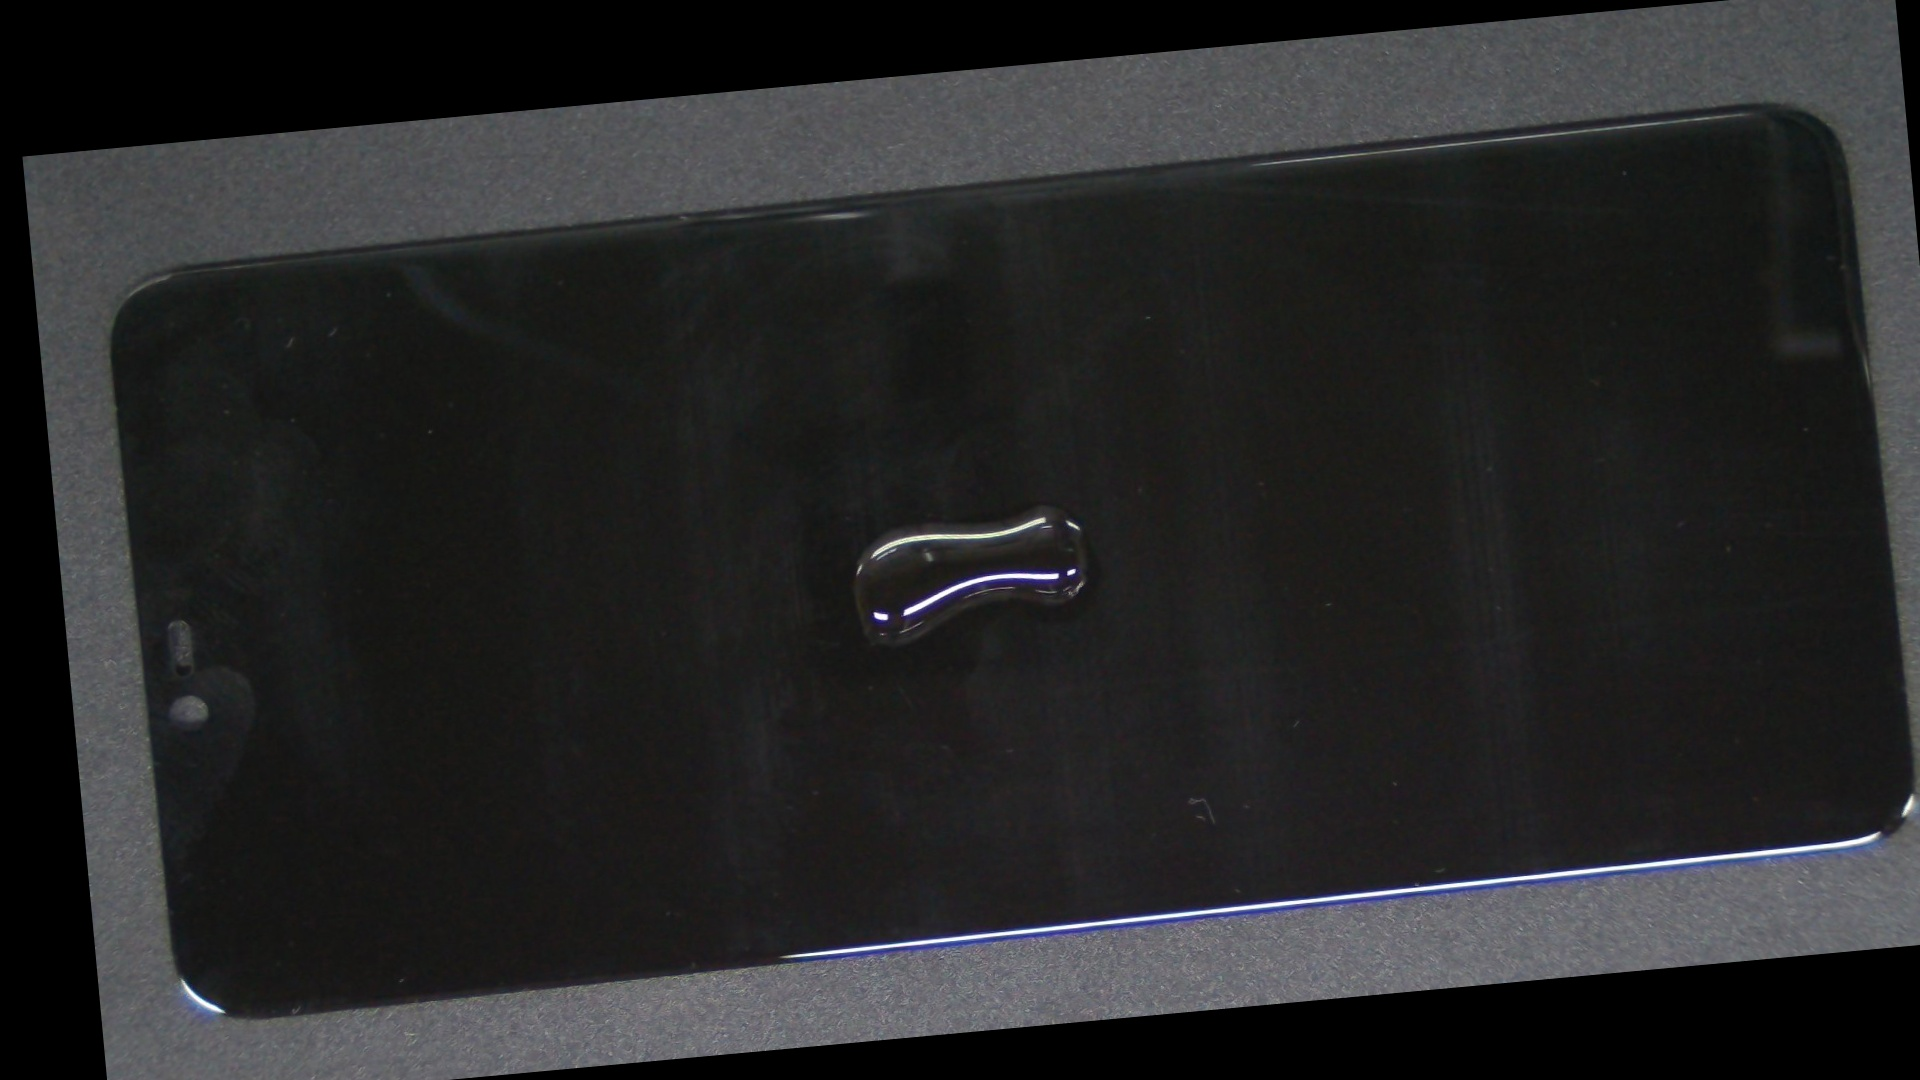oil: (531, 240, 1547, 769)
